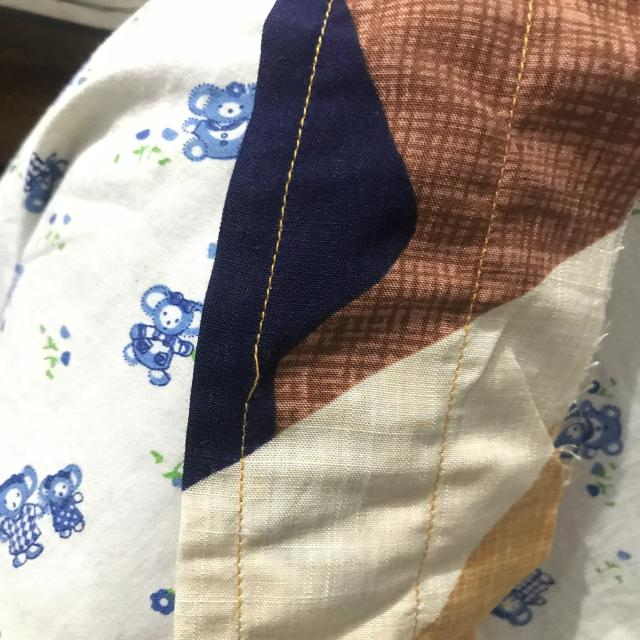good: (262, 150, 296, 266)
skip: (226, 326, 276, 419)
